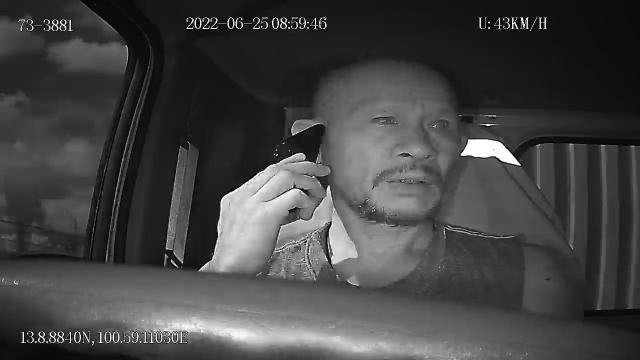PhoneUse: (270, 123, 328, 227)
SafeDriving: (362, 105, 407, 132), (418, 110, 458, 137)
